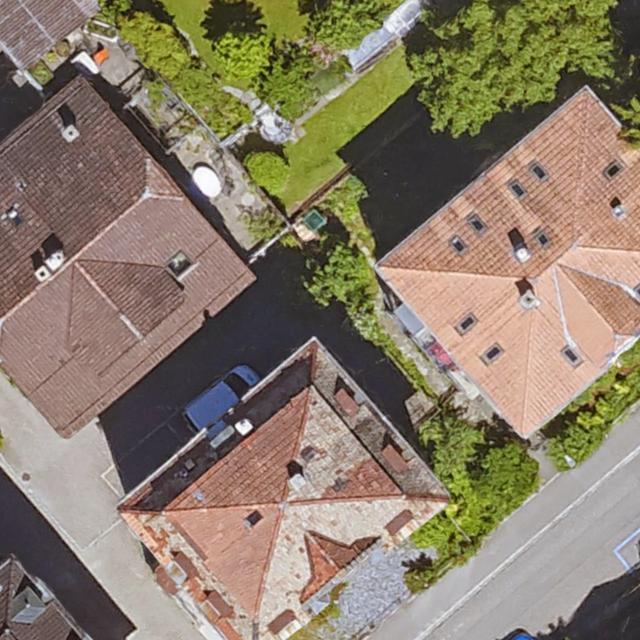tree: (417, 0, 619, 136), (289, 241, 376, 310), (214, 23, 273, 80), (309, 0, 376, 43)
